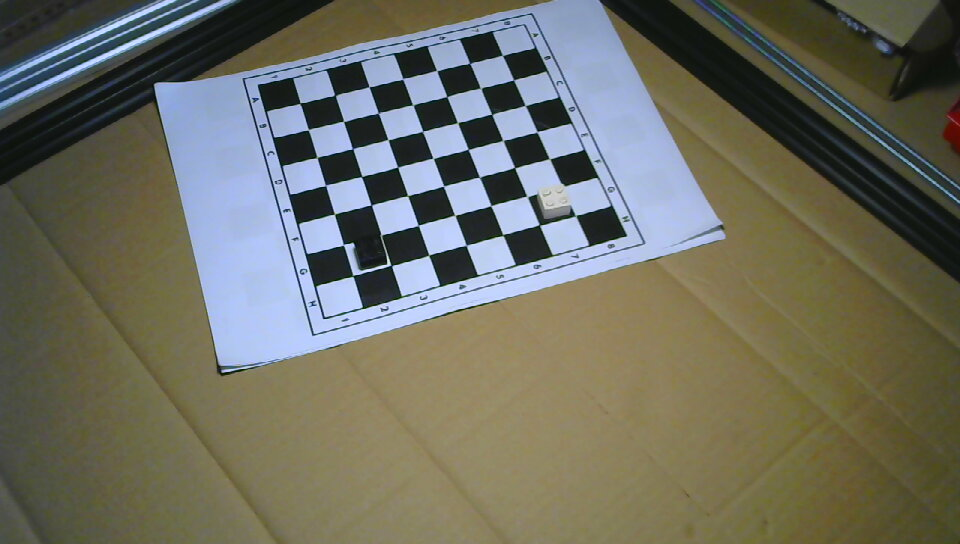bp: (353, 235, 387, 270)
wp: (536, 185, 572, 220)
